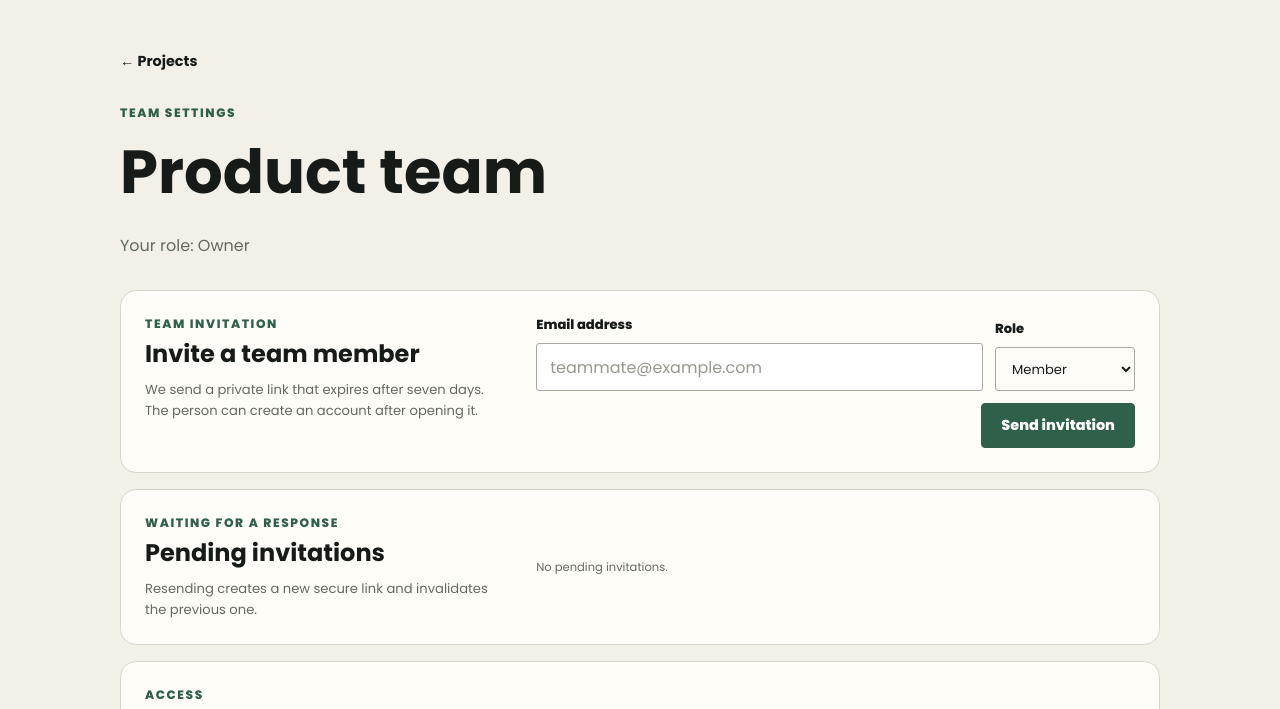
Test: Workspace settings › sends an expiring email invitation
Expected: the heading "Product team" is shown, [120,129,547,214]
In the field labelled "Email address": (760, 367) [536,343,983,391], type "member@example.com"
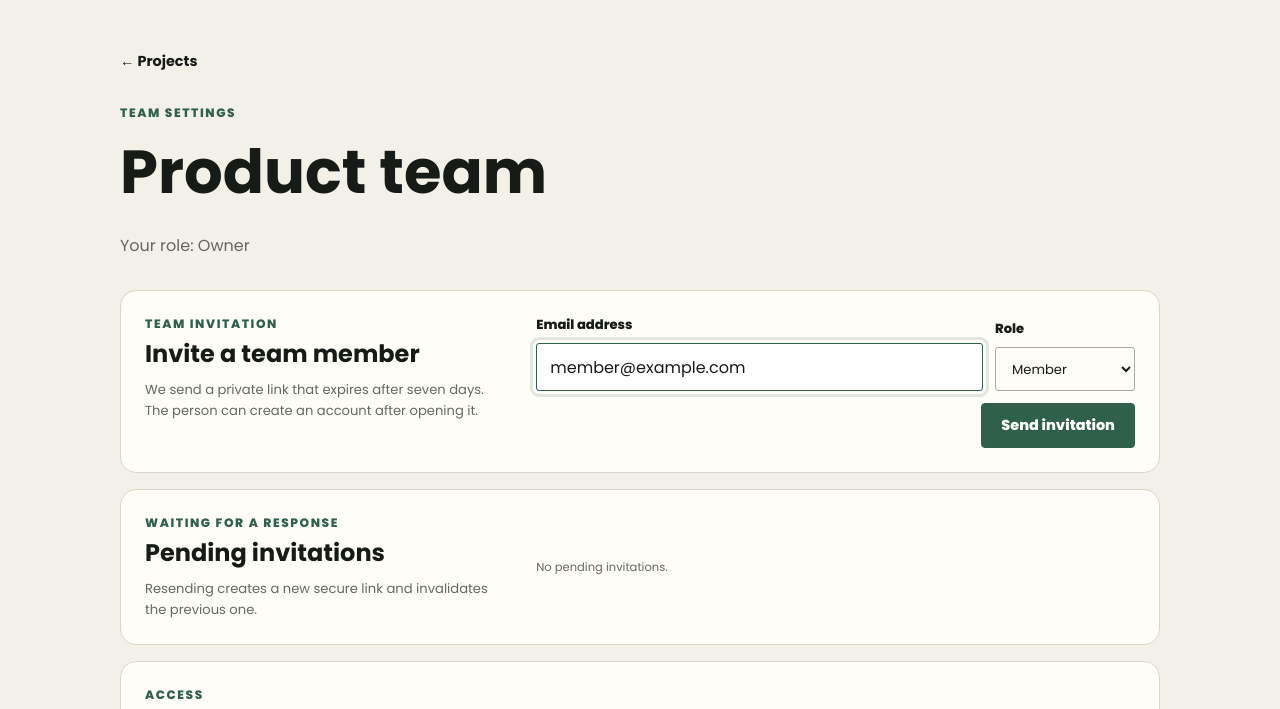
Click the button "Send invitation": (1058, 426) [981,403,1135,448]
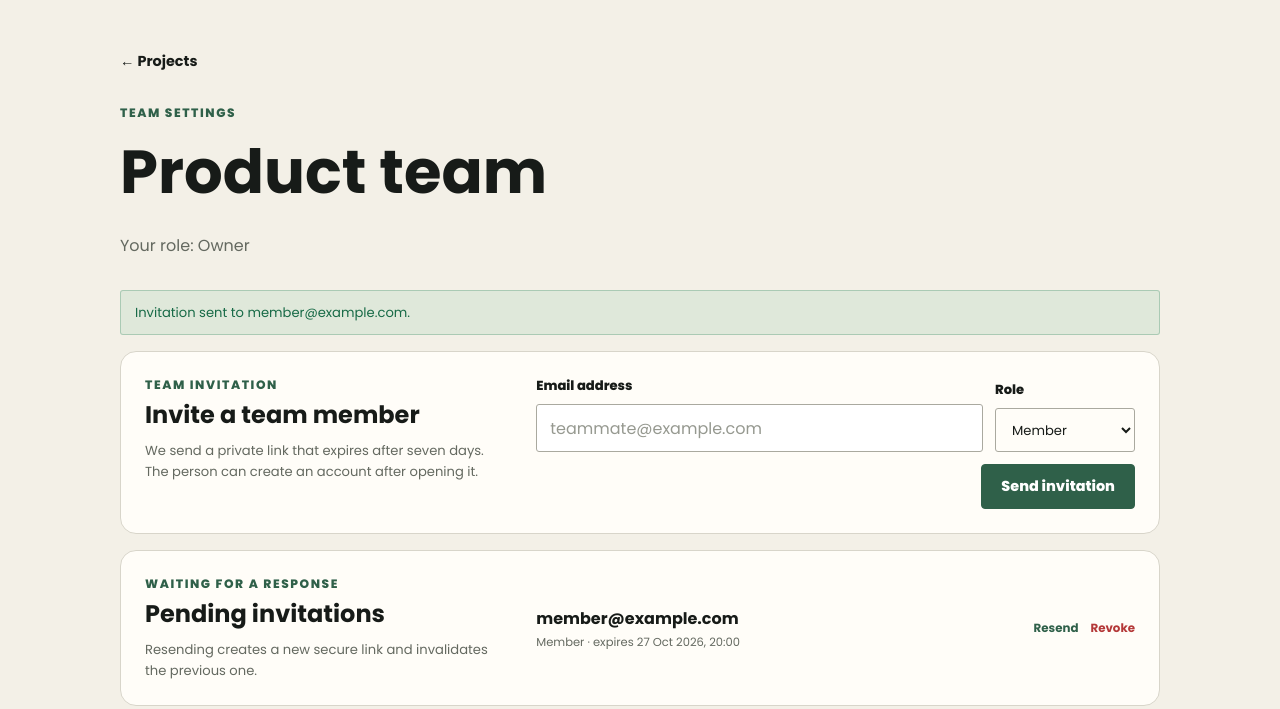
Now the text "Invitation sent to member@example.com." is shown, box [120,290,1160,335]
Now the text "member@example.com" is shown, box [536,606,739,630]
